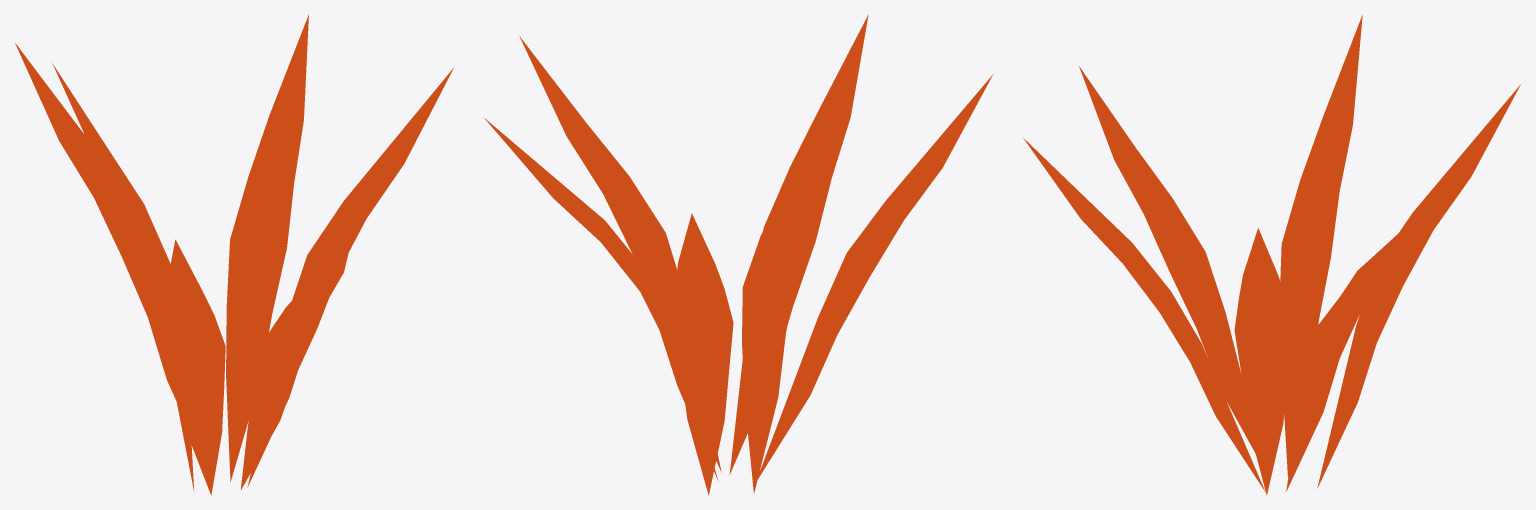
File: fucken grass.fbx
3 renders of one model, left to right at view 1: azimuth 30°, elevation 25°; view 2: azimuth 150°, elevation 25°; view 3: azimuth 270°, elevation 25°, orthographic. The views are drawn at different scales.
Parts seen in each view (by area): view 1: Grass.001; view 2: Grass.001; view 3: Grass.001.
Boxes of the visible parts, x1,y1,x2,y2 form: Grass.001: [15, 14, 453, 495]; Grass.001: [484, 14, 992, 495]; Grass.001: [1023, 15, 1520, 495].
Bounding box in the file's own units: 39.09 × 42.98 × 46.83.
